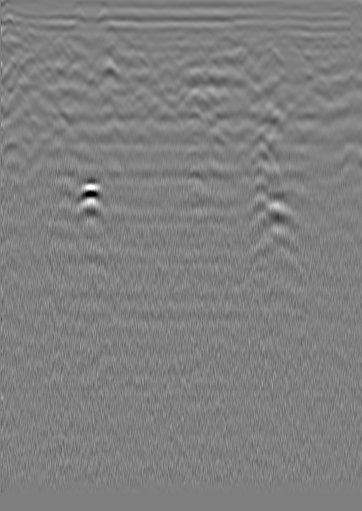가스: (72, 180, 103, 213)
상수: (327, 36, 347, 56)
오수: (18, 32, 38, 52)
우수: (186, 46, 206, 66)
